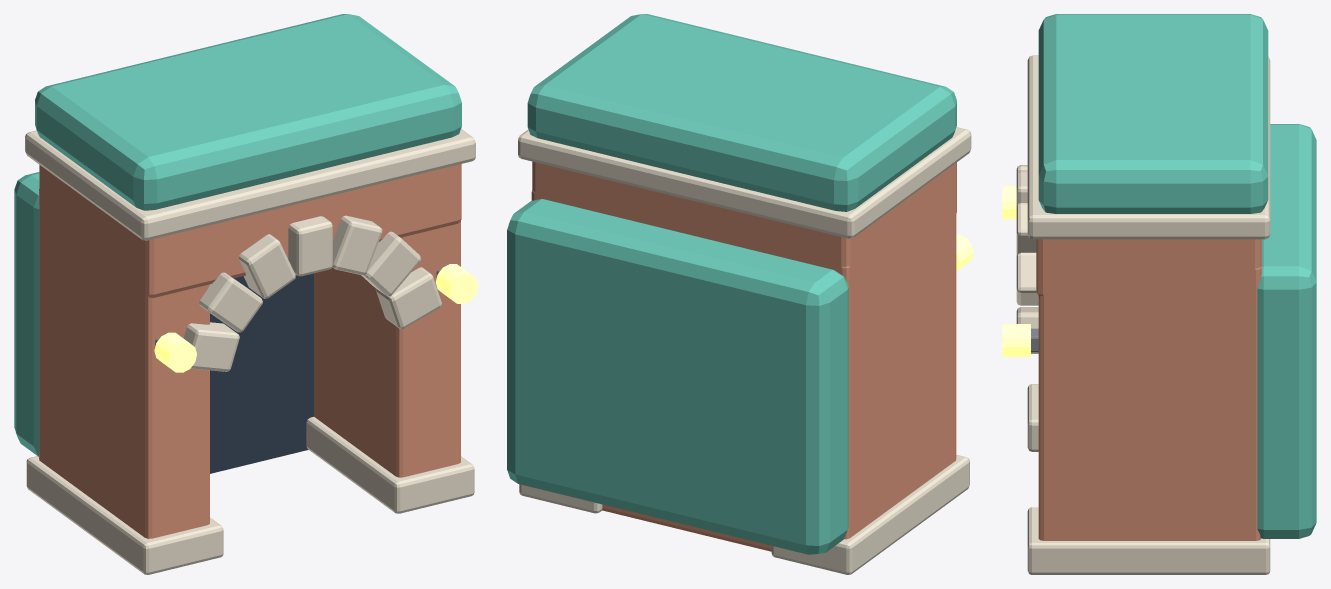
The model's file is tunnel-portal-v1.glb.
3 renders of one model, left to right at view 1: azimuth 30°, elevation 25°; view 2: azimuth 150°, elevation 25°; view 3: azimuth 270°, elevation 25°, orthographic.
Visible parts, largest first — view 1: TurfCap, PierLeft, PierRight, TopLintel, TunnelVoid, StoneCoping, PlinthLeft, TurfBackMound, PlinthRight, Voussoir_0, Voussoir_3, Voussoir_4 (+7 smaller); view 2: TurfBackMound, TurfCap, PierLeft, TopLintel, StoneCoping, PlinthLeft, BackWall, PlinthRight; view 3: PierRight, TurfCap, TurfBackMound, TopLintel, StoneCoping, PlinthRight, BackWall, Voussoir_1, LanternBulb_R, PlinthLeft, Voussoir_2, LanternBulb_L (+1 smaller).
Boxes of the visible parts, <box> form: TurfCap: <box>35,14,461,210</box>; PierLeft: <box>40,204,209,538</box>; PierRight: <box>314,221,460,477</box>; TopLintel: <box>39,164,461,297</box>; TunnelVoid: <box>210,273,313,473</box>; StoneCoping: <box>25,128,475,240</box>; PlinthLeft: <box>26,456,223,574</box>; TurfBackMound: <box>14,172,39,456</box>; PlinthRight: <box>306,417,474,513</box>; Voussoir_0: <box>375,267,441,329</box>; Voussoir_3: <box>288,216,332,276</box>; Voussoir_4: <box>239,234,295,298</box>; TurfBackMound: <box>507,199,848,554</box>; TurfCap: <box>527,14,956,211</box>; PierLeft: <box>851,202,956,536</box>; TopLintel: <box>532,161,956,291</box>; StoneCoping: <box>518,127,971,238</box>; PlinthLeft: <box>771,455,969,574</box>; BackWall: <box>531,190,863,551</box>; PlinthRight: <box>519,484,602,513</box>; PierRight: <box>1038,282,1253,540</box>; TurfCap: <box>1038,14,1268,213</box>; TurfBackMound: <box>1257,124,1316,538</box>; TopLintel: <box>1036,239,1261,297</box>; StoneCoping: <box>1027,55,1270,239</box>; PlinthRight: <box>1027,507,1270,574</box>; BackWall: <box>1227,267,1261,540</box>; Voussoir_1: <box>1016,252,1038,305</box>; LanternBulb_R: <box>1002,324,1030,356</box>; PlinthLeft: <box>1027,384,1038,451</box>; Voussoir_2: <box>1016,203,1036,255</box>; LanternBulb_L: <box>1002,186,1016,218</box>.
Bounding box in the file's own units: 1.76 × 2.04 × 1.42.
